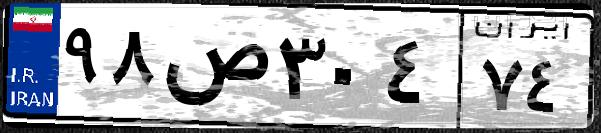0: (330, 28, 385, 110)
3: (270, 28, 330, 110)
4: (385, 28, 445, 110), (525, 38, 570, 115)
7: (475, 38, 525, 113)
8: (110, 28, 158, 98)
9: (57, 26, 110, 100)
ص: (158, 20, 270, 120)
